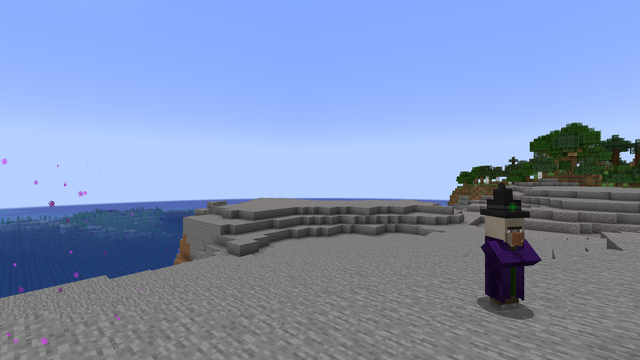sorcieres: (484, 210, 522, 317)
